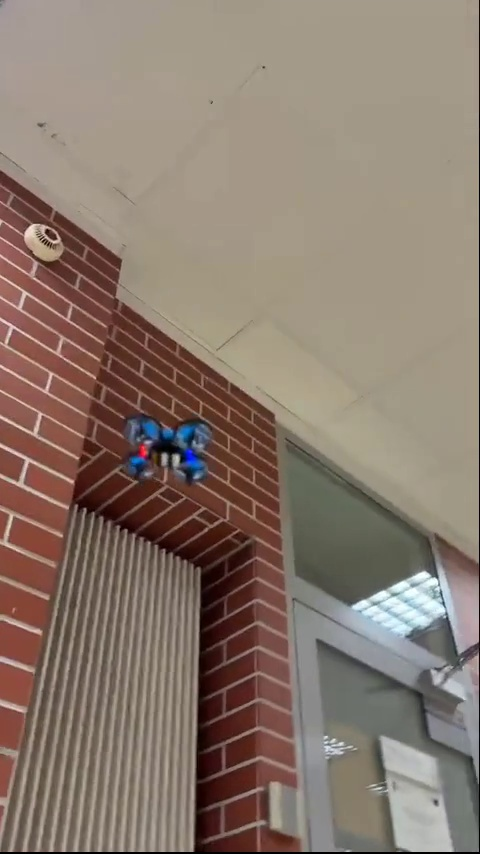drone: (123, 418, 207, 481)
